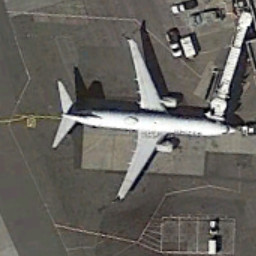Airplane: (51, 33, 240, 208)
